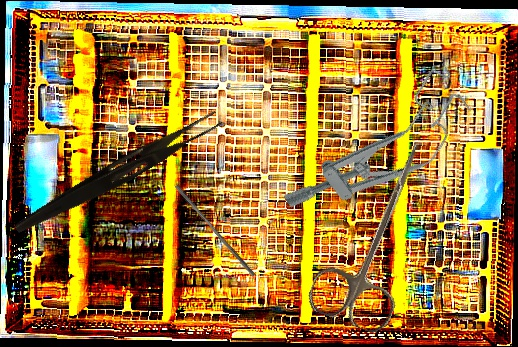Dressing Forceps: (12, 103, 223, 244)
Iris Scissors: (303, 127, 453, 338)
Pusher: (171, 183, 260, 278)
Speculum: (273, 61, 487, 245)
